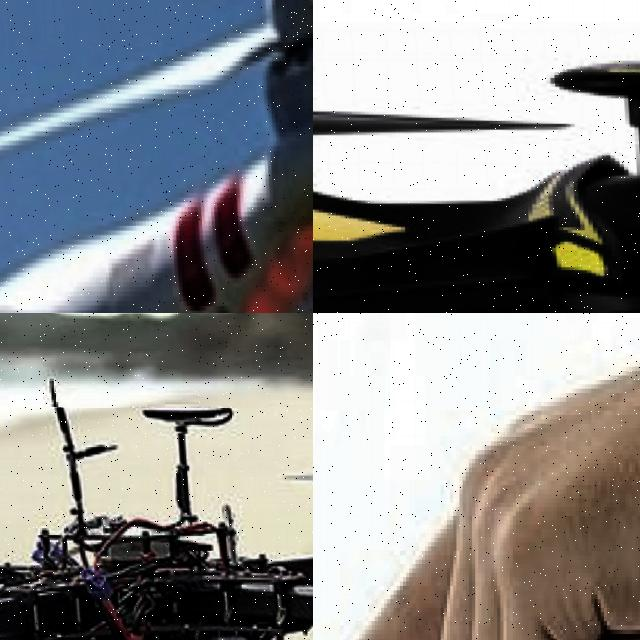drone: (0, 0, 313, 313), (313, 28, 640, 313), (0, 408, 313, 640)
